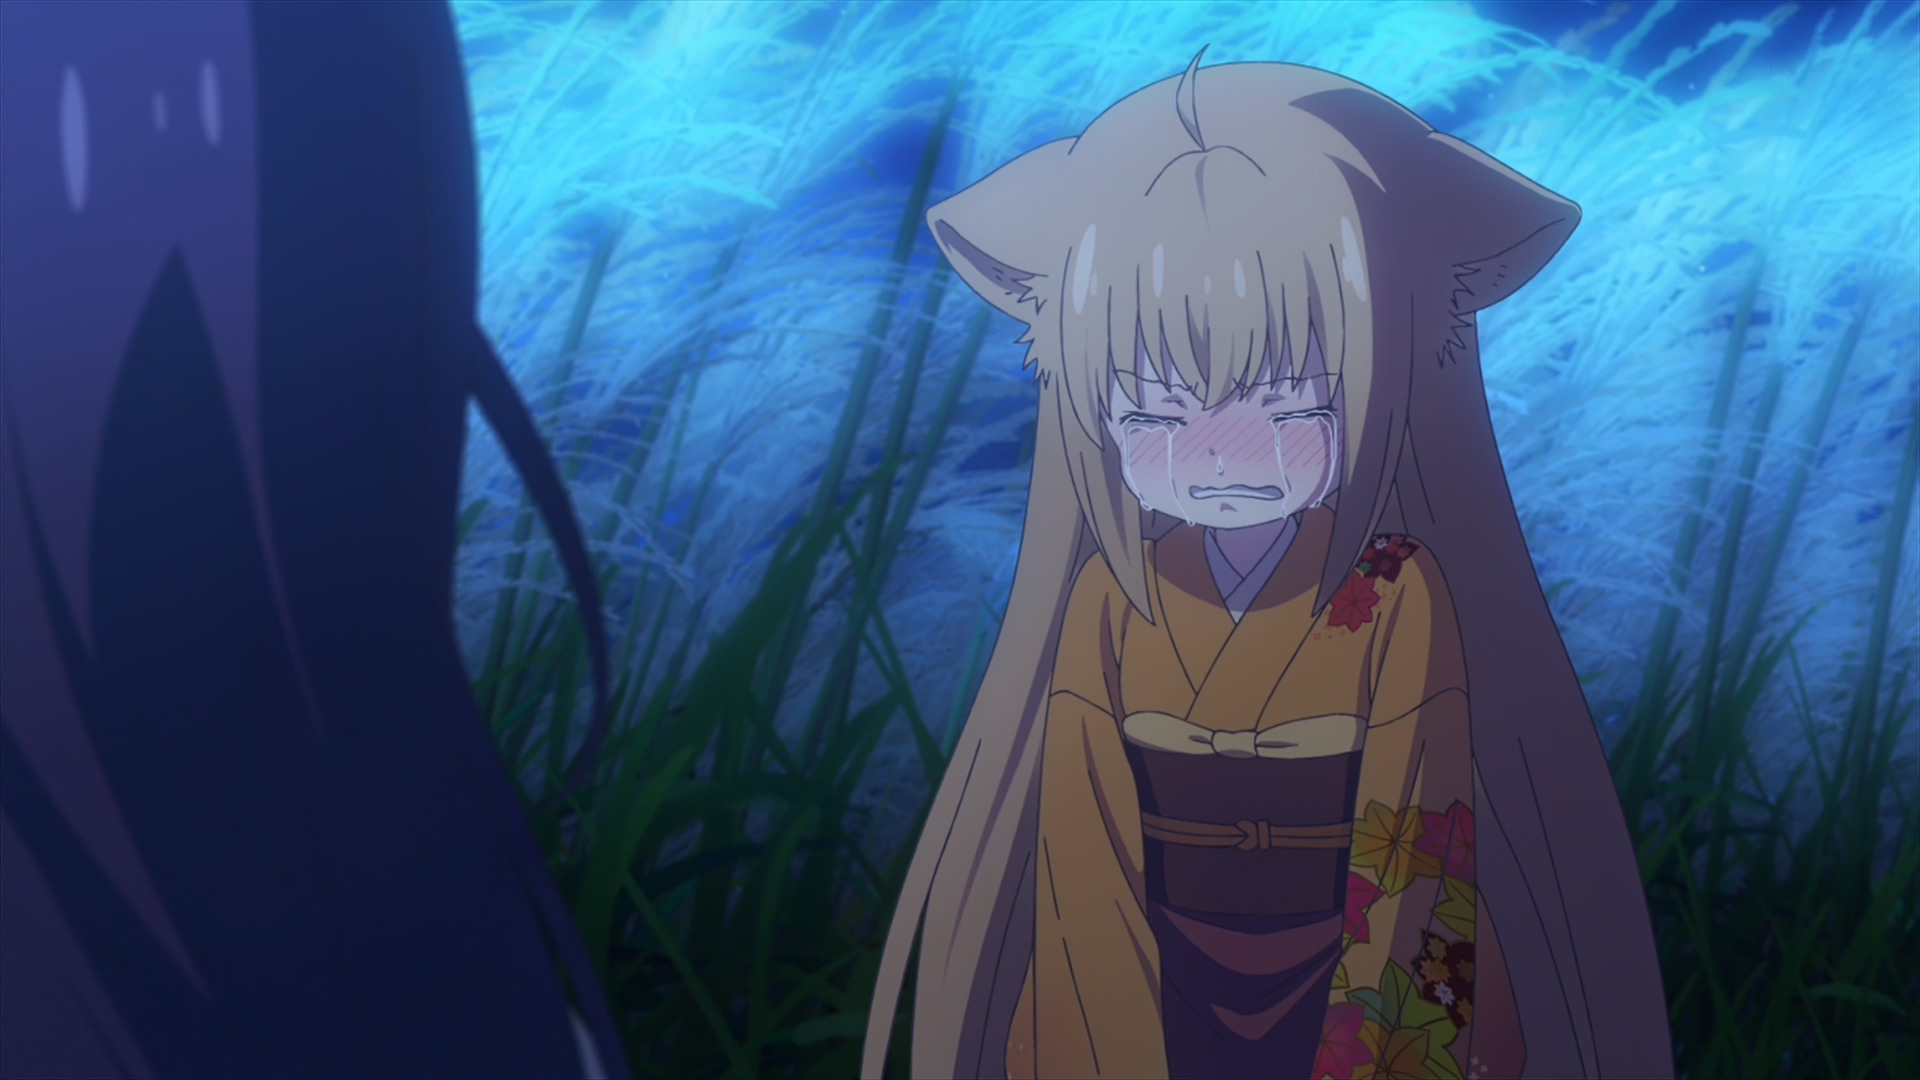柚: (858, 42, 1672, 1080)
皋: (1, 1, 616, 1080)
